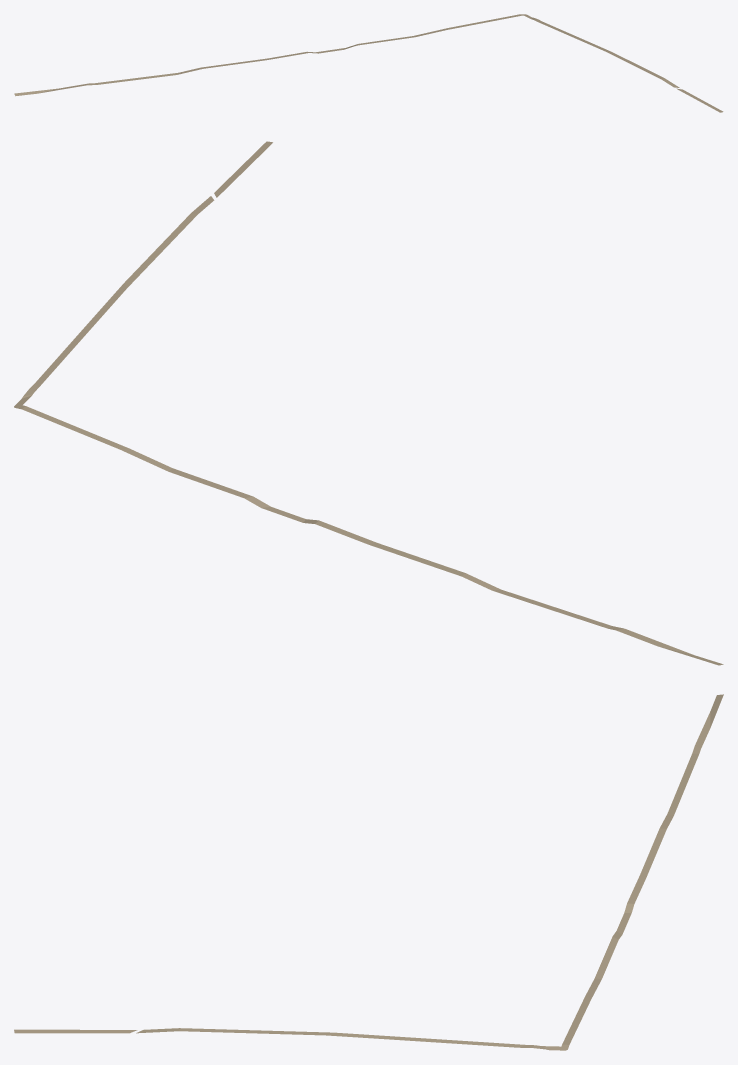
The model's file is farm_14_7_track.glb.
The picture shows the model from 3 angles, top to bottom: view 1: azimuth 30°, elevation 25°; view 2: azimuth 150°, elevation 25°; view 3: azimuth 270°, elevation 25°; orthographic projection. The views are drawn at different scales.
Visible parts, largest first — view 1: geometry_0; view 2: geometry_0; view 3: geometry_0.
Part boxes in pixels (x1,y1,x2,y2): geometry_0: (14, 14, 723, 112); geometry_0: (14, 141, 723, 665); geometry_0: (14, 694, 723, 1050).
Size of the model in its own units: 406 by 23.81 by 321.
